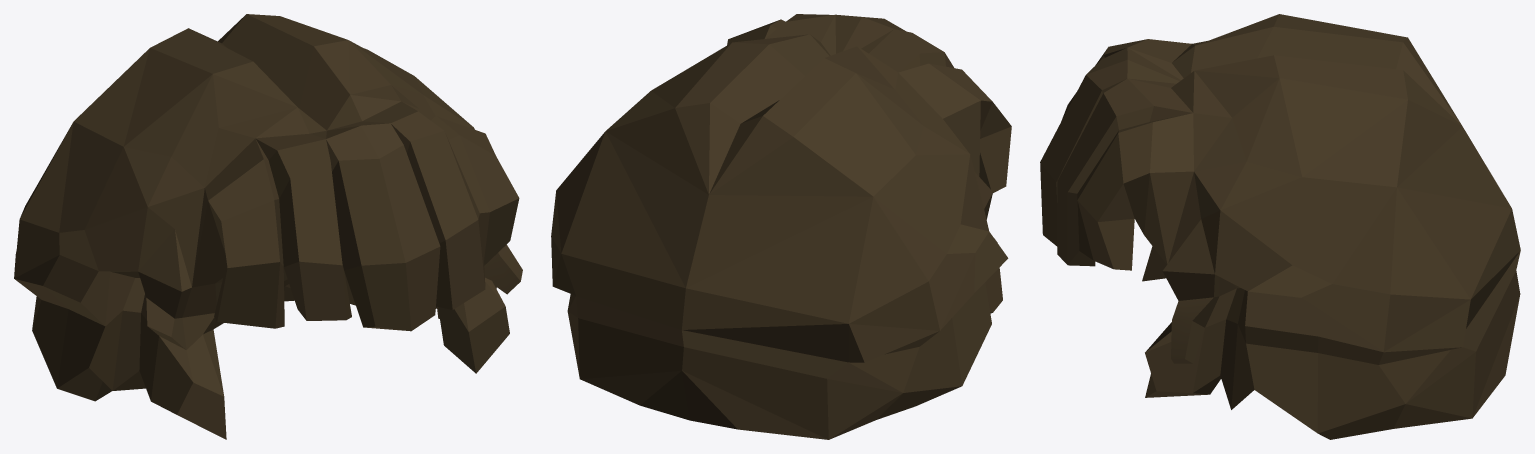
The model's file is Chr_Hair_27_Static.fbx.
The picture shows the model from 3 angles, left to right: view 1: azimuth 30°, elevation 25°; view 2: azimuth 150°, elevation 25°; view 3: azimuth 270°, elevation 25°; orthographic projection. The views are drawn at different scales.
Parts seen in each view (by area): view 1: Chr_Hair_27_Static; view 2: Chr_Hair_27_Static; view 3: Chr_Hair_27_Static.
Part boxes in pixels (box(x1,y1,x2,y2)): Chr_Hair_27_Static: box(14, 14, 522, 439); Chr_Hair_27_Static: box(551, 14, 1011, 439); Chr_Hair_27_Static: box(1040, 14, 1520, 439).
Size of the model in its own units: 0.3261 by 0.2417 by 0.3183.
